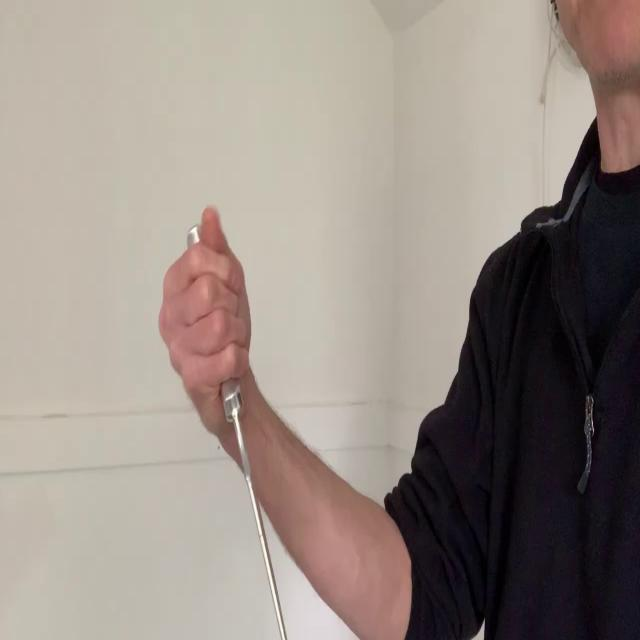Knife_Handle: (159, 203, 288, 640)
